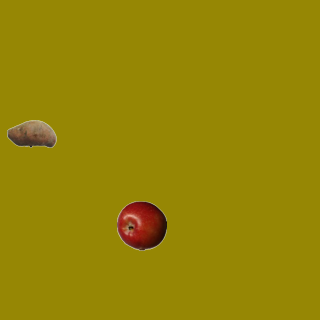Apple Braeburn: (116, 200, 166, 250)
Potato Sweet: (6, 108, 56, 158)
